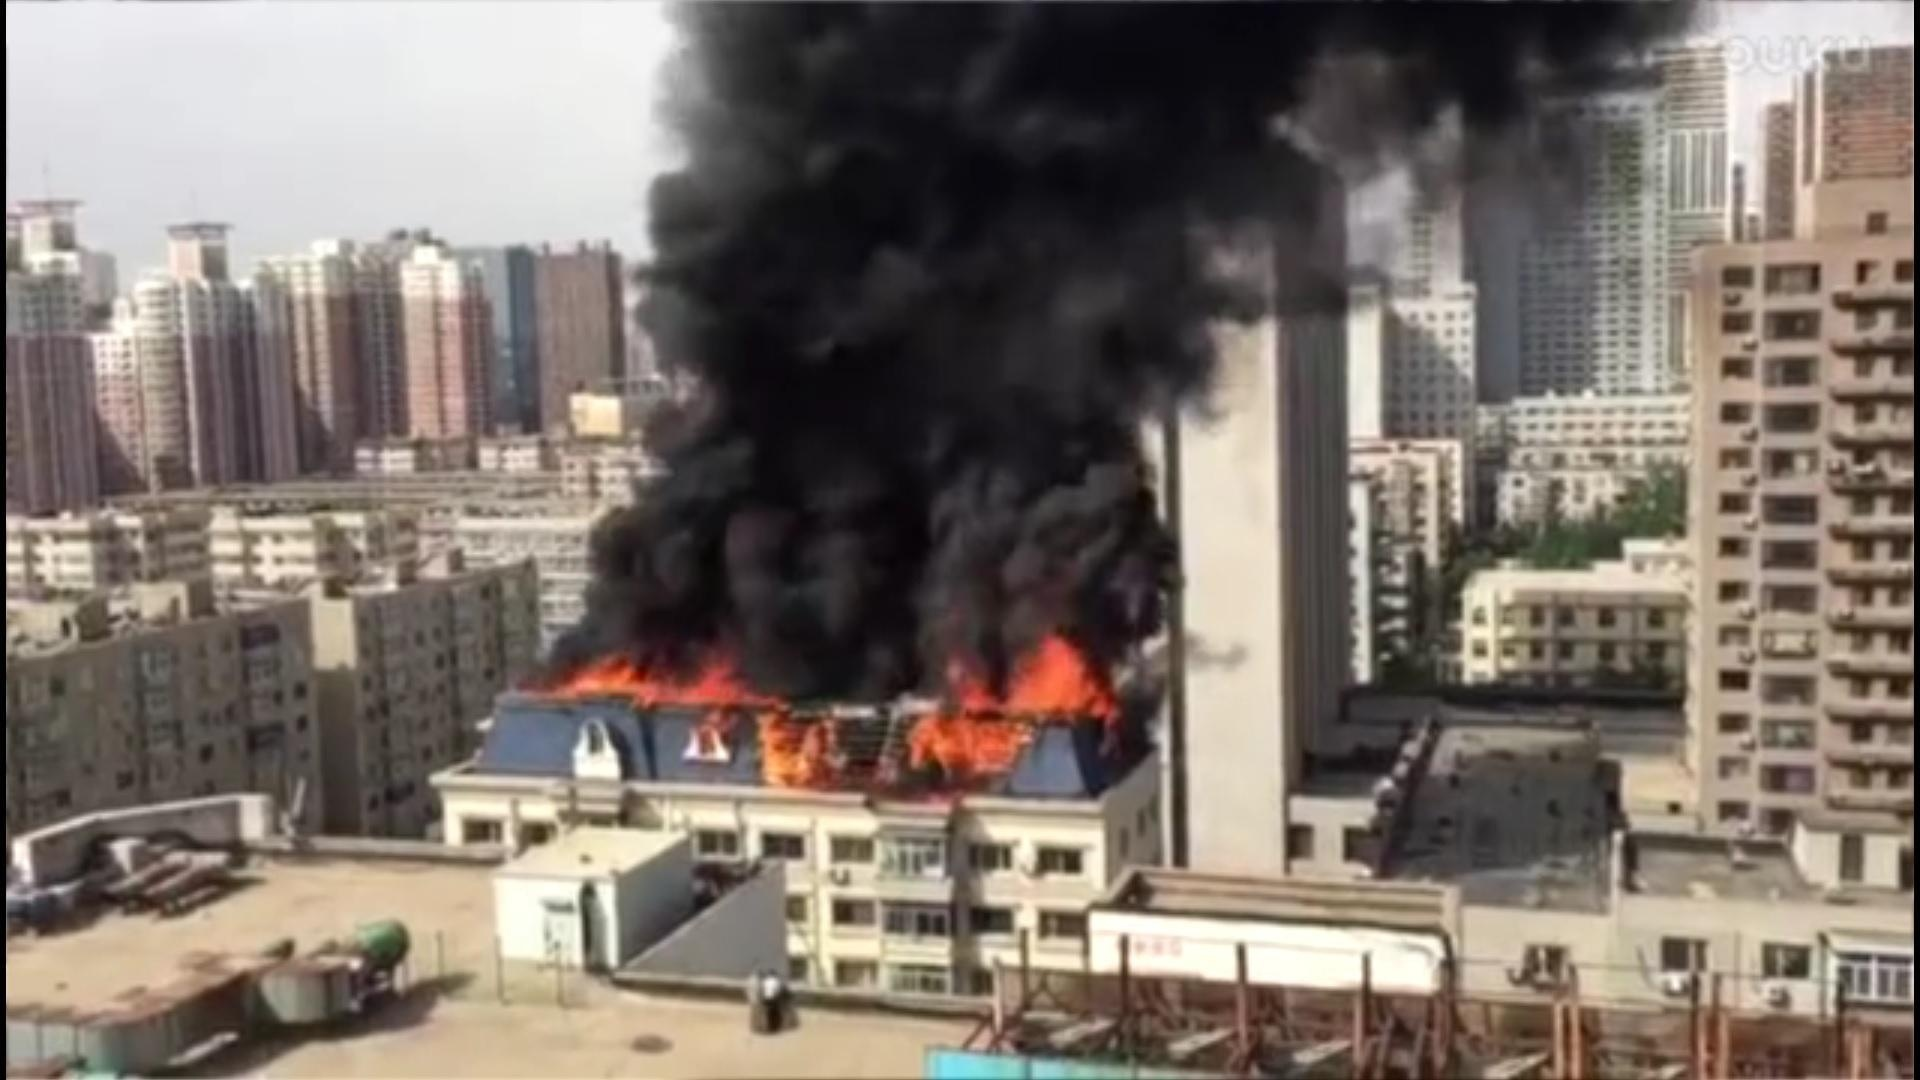fire: (556, 651, 837, 779), (899, 637, 1116, 789)
